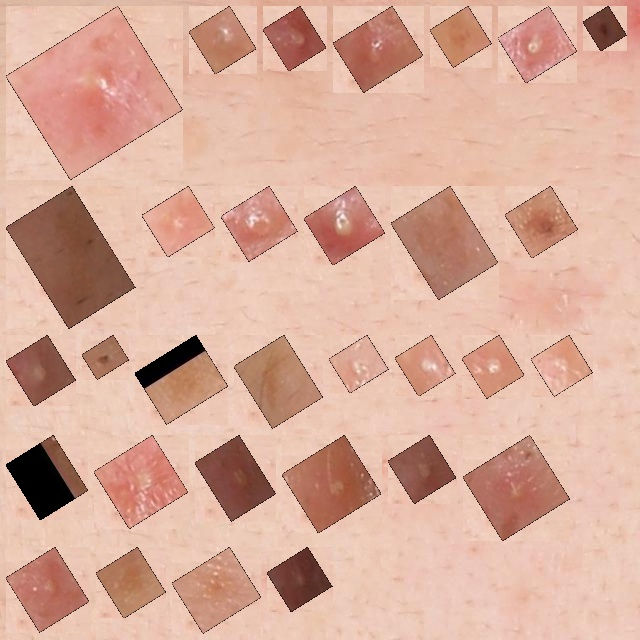melasma: (17, 197, 124, 317), (402, 197, 487, 288), (146, 346, 217, 413), (245, 346, 312, 417), (183, 558, 250, 622), (107, 558, 155, 607), (441, 17, 480, 56)
nevus: (516, 197, 567, 247), (93, 346, 118, 368), (594, 17, 615, 40)
pustule: (17, 17, 172, 168), (474, 446, 559, 529), (293, 446, 370, 522), (105, 446, 177, 517), (344, 17, 412, 81), (17, 558, 78, 621), (17, 446, 77, 509), (206, 446, 265, 510), (315, 197, 374, 254), (509, 17, 566, 72), (232, 197, 286, 250), (153, 197, 204, 246), (17, 346, 65, 395), (399, 446, 445, 492), (200, 17, 245, 63), (278, 558, 321, 600), (274, 17, 315, 60), (473, 346, 513, 387), (542, 346, 581, 385), (406, 346, 444, 385), (340, 346, 377, 382)
